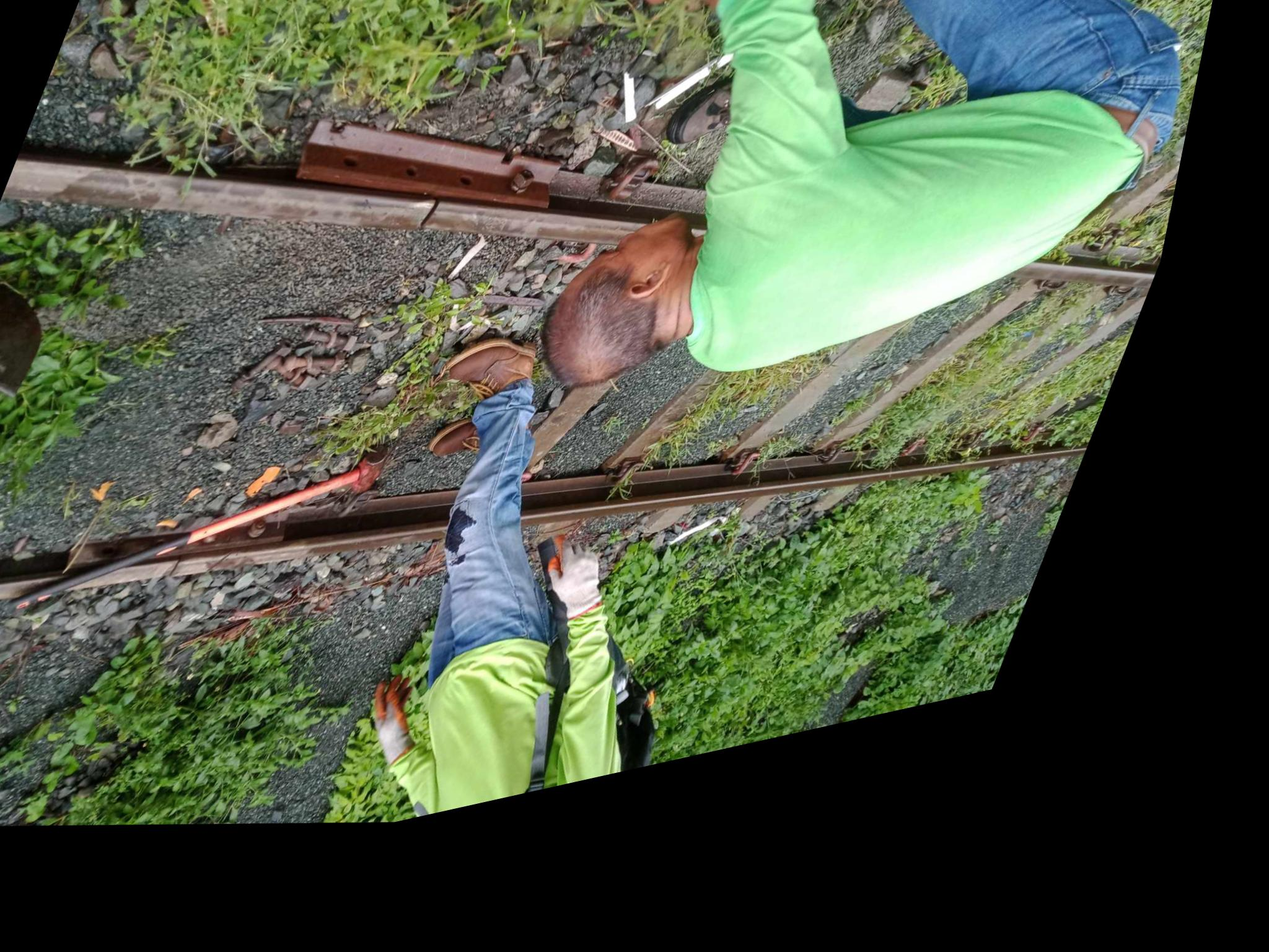person: (383, 177, 508, 302), (170, 548, 236, 614)
